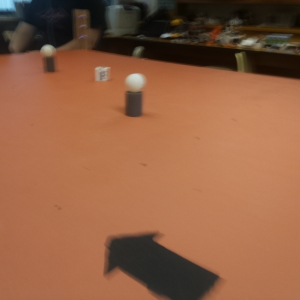blockF: (95, 65, 110, 83)
corner: (75, 10, 89, 50)
obstacle: (126, 74, 146, 116), (41, 43, 57, 72)
start: (105, 229, 220, 300)
